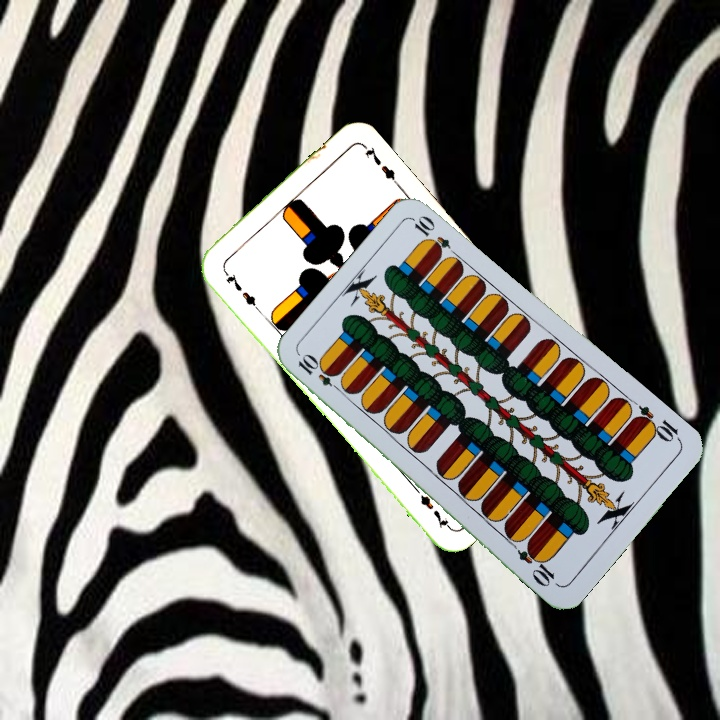E10: (629, 401, 684, 446), (294, 351, 346, 396)
E7: (218, 262, 261, 312)
